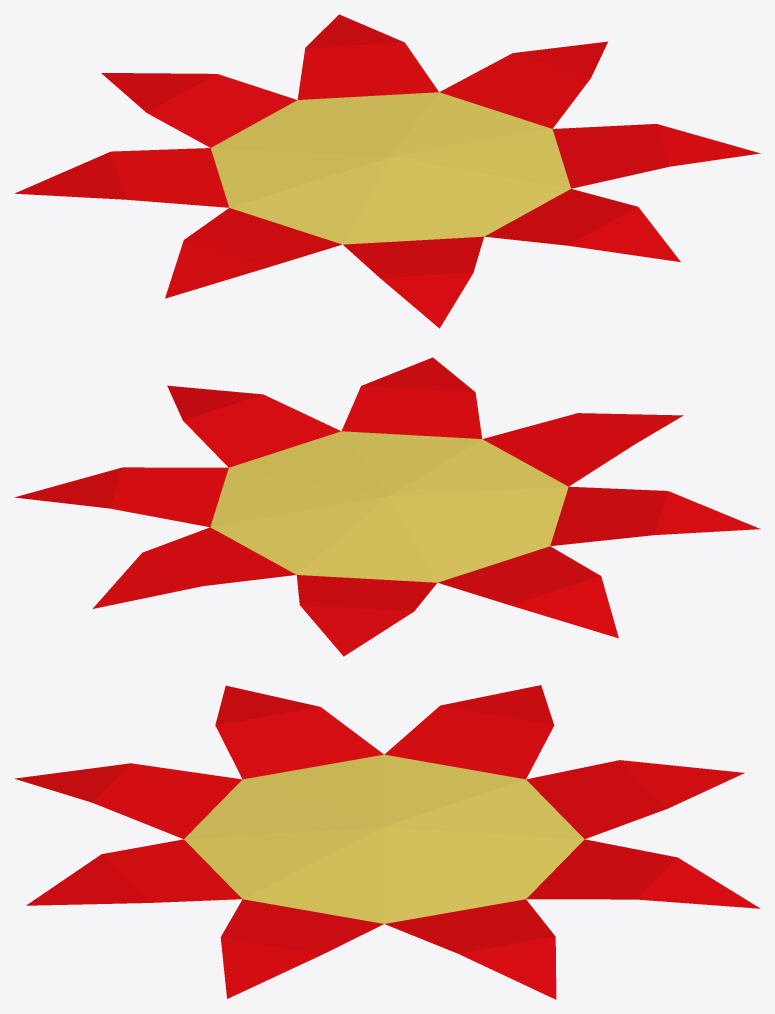
File: flower02.fbx
The picture shows the model from 3 angles, top to bottom: view 1: azimuth 30°, elevation 25°; view 2: azimuth 150°, elevation 25°; view 3: azimuth 270°, elevation 25°; orthographic projection. The views are drawn at different scales.
Parts seen in each view (by area): view 1: flower02; view 2: flower02; view 3: flower02.
Boxes of the visible parts, <box> form: flower02: <box>14,14,760,328</box>; flower02: <box>14,357,760,656</box>; flower02: <box>15,685,759,999</box>.
Size of the model in its own units: 75.73 by 1.92 by 75.85.
